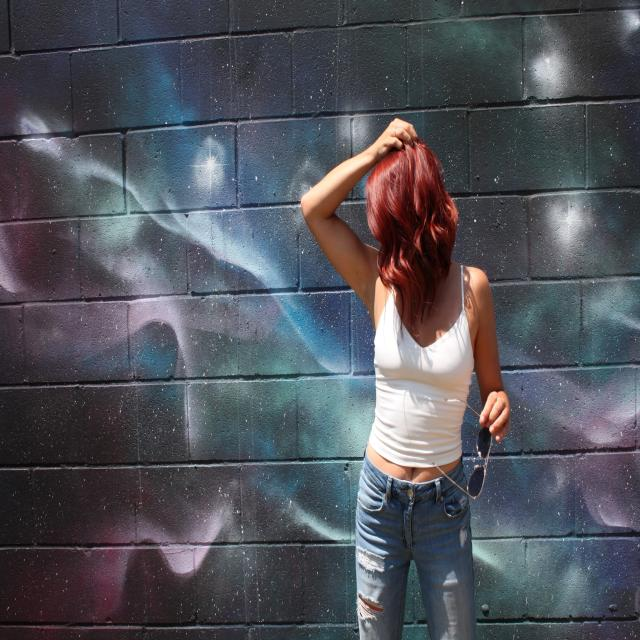adult: (295, 111, 514, 640)
